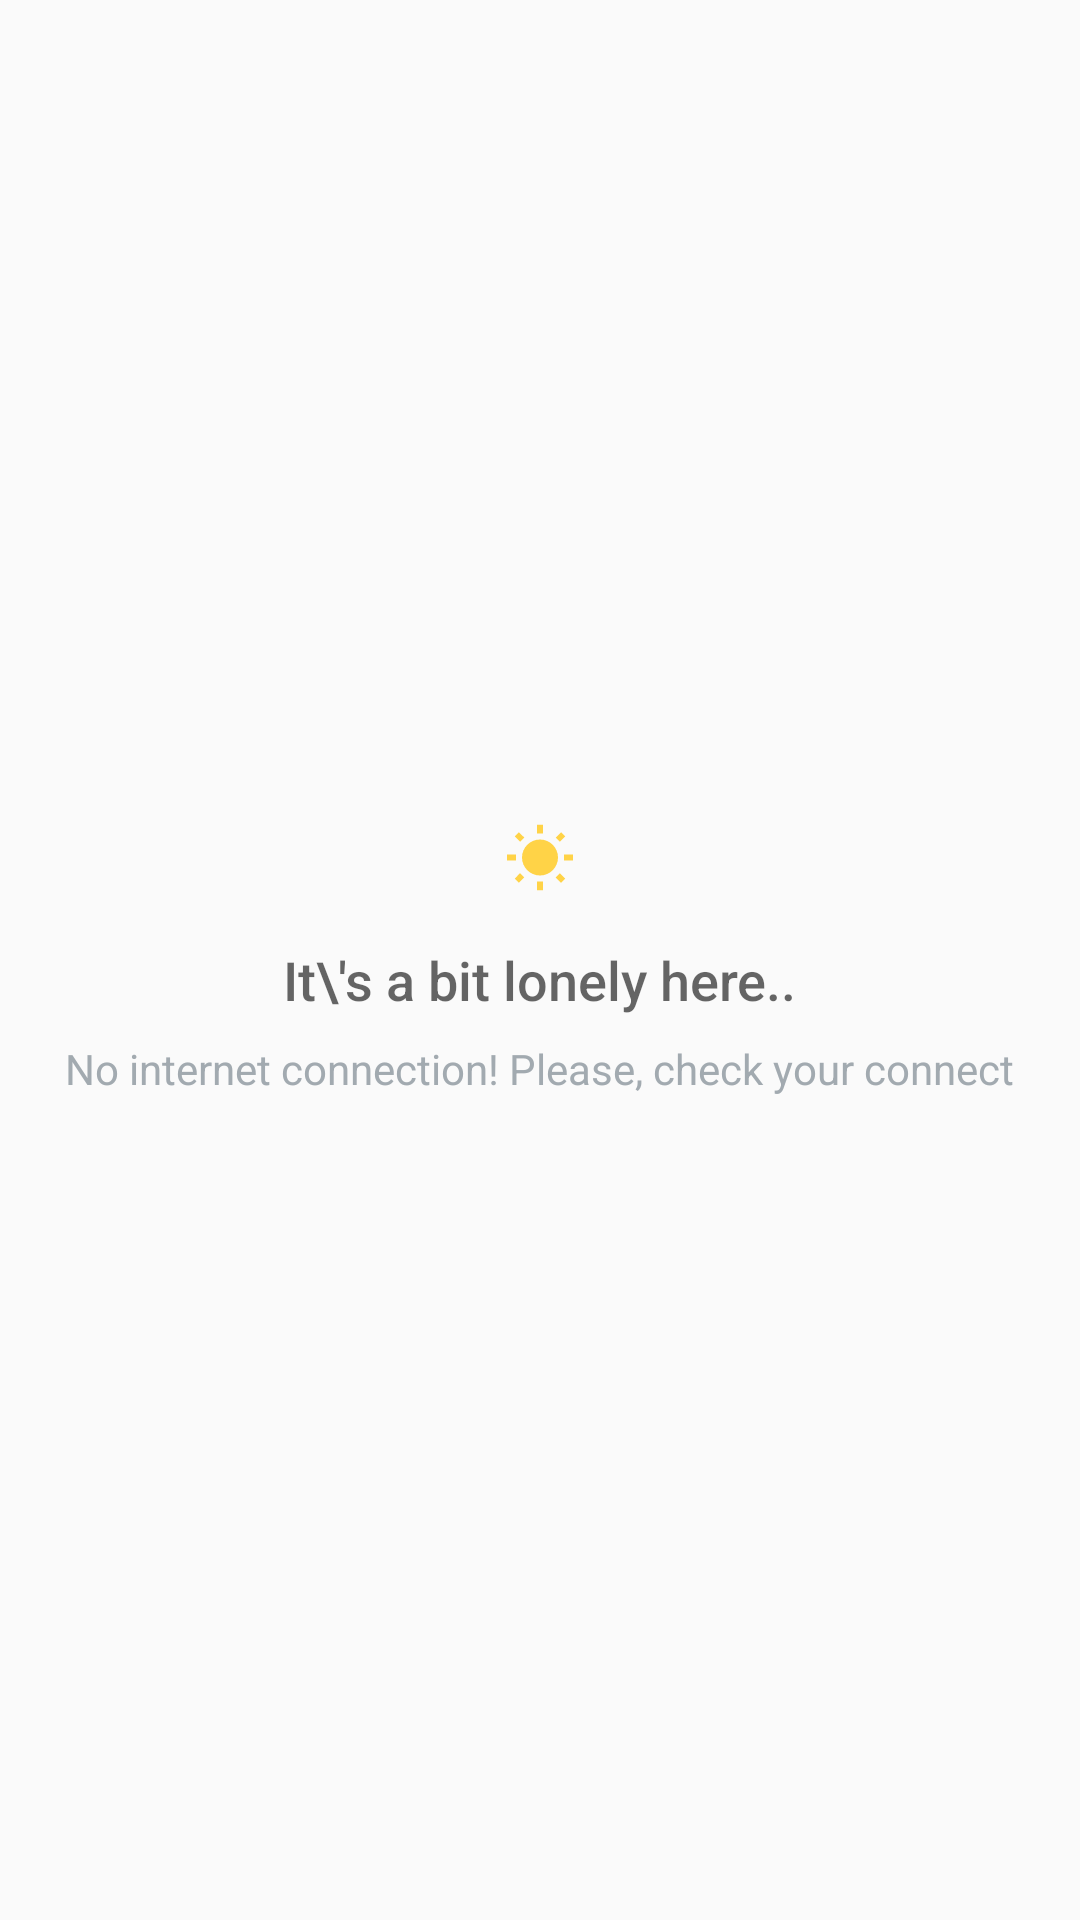

Screen size 1080×1920. Icon name, then its box in pixels as bbox(x1, y1, x2, y2):
sunny: bbox(507, 824, 573, 891)
